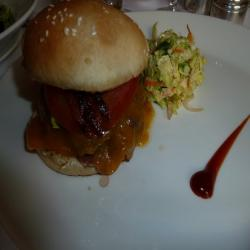burger: (18, 3, 156, 182)
salad: (146, 33, 204, 111)
